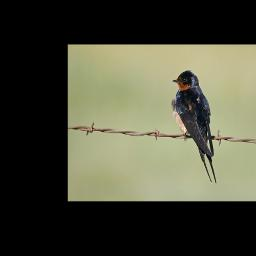Swallow: (171, 69, 219, 184)
